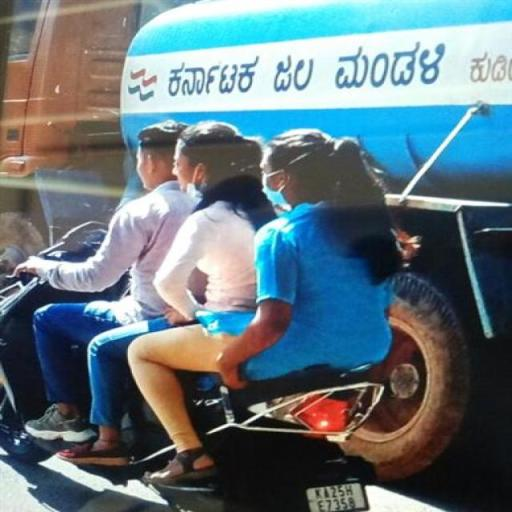tripple riding: (0, 116, 418, 393)
